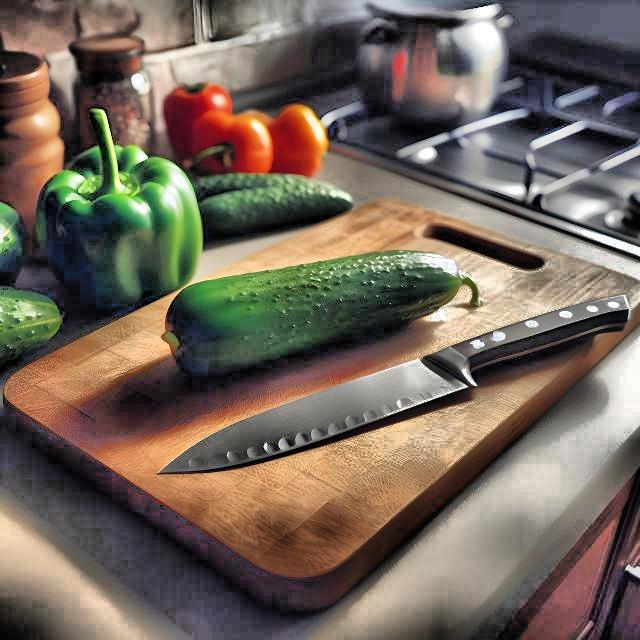knife: (157, 298, 635, 477)
